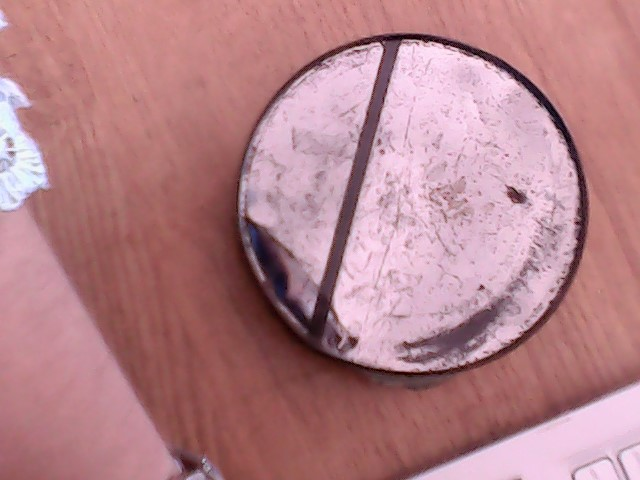Metal: (194, 30, 593, 388)
